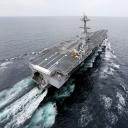Portanaves: (29, 12, 111, 94)
